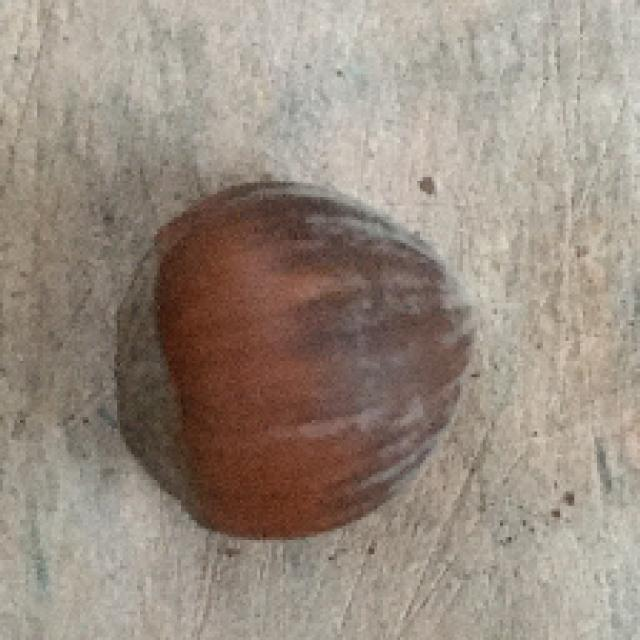qualityHazelnut: (108, 183, 493, 545)
